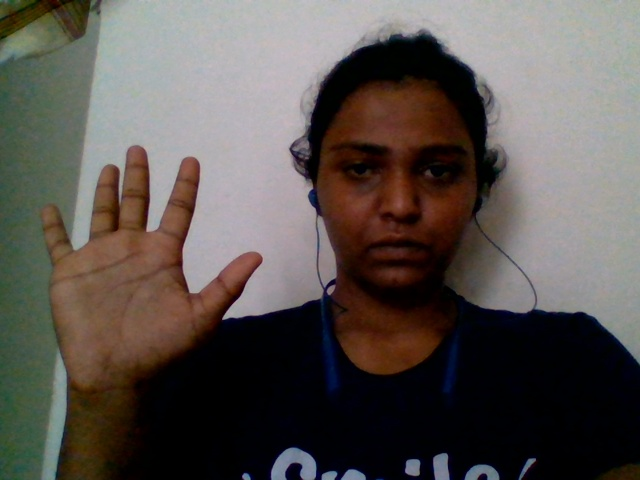Hello: (29, 128, 285, 407)
